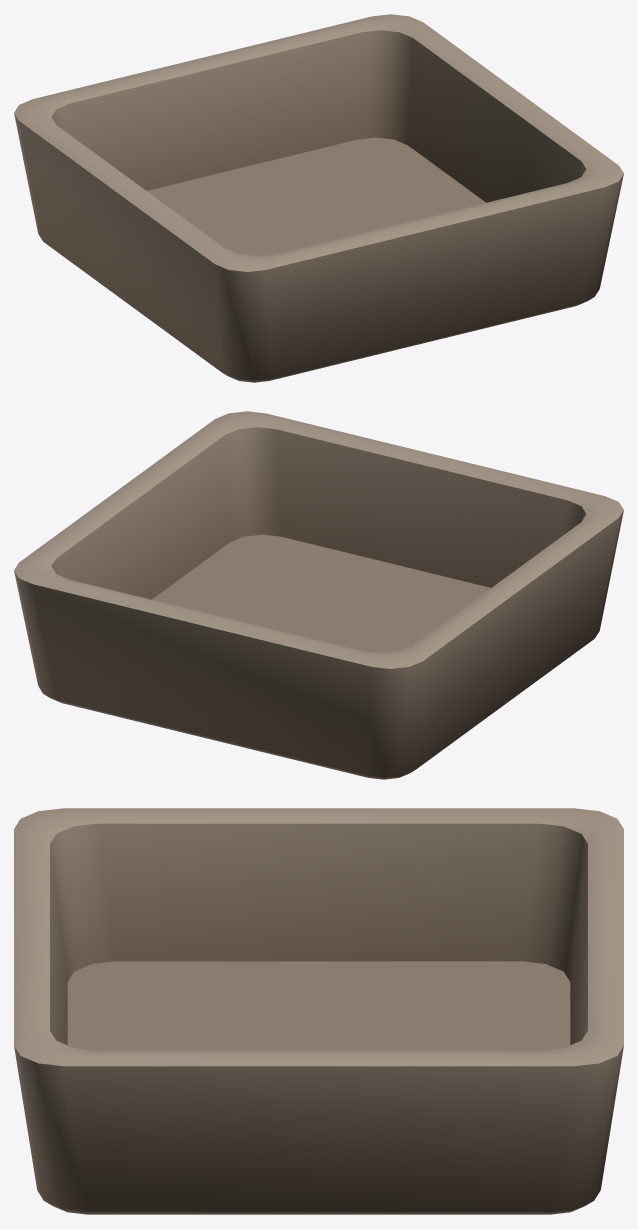
File: container_B_tall.glb
3 views of the same model, one above another, from view 1: azimuth 30°, elevation 25°; view 2: azimuth 150°, elevation 25°; view 3: azimuth 270°, elevation 25° (orthographic). The views are drawn at different scales.
Visible parts, largest first — view 1: container_B_tall; view 2: container_B_tall; view 3: container_B_tall.
Part boxes in pixels (x1,y1,x2,y2): container_B_tall: (14,14,623,382); container_B_tall: (14,411,623,779); container_B_tall: (14,808,623,1214).
Size of the model in its own units: 3.4 by 1.02 by 3.4.
Materials: 1 (1 with a texture image).
